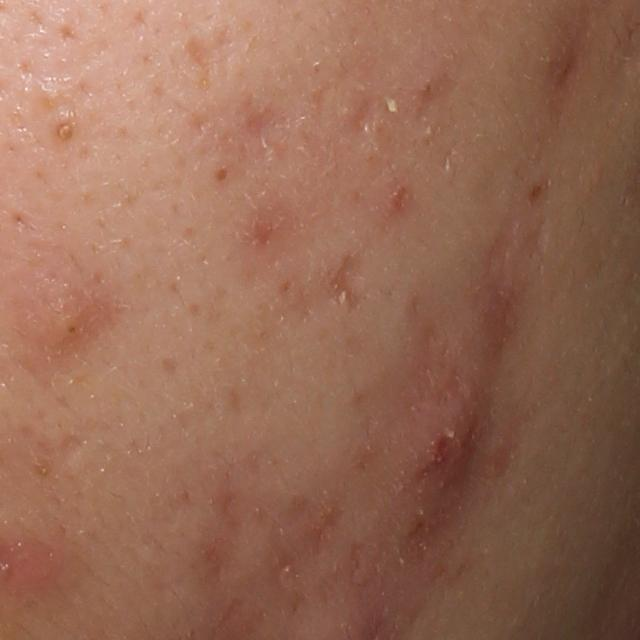atrophic_scar: (278, 491, 347, 601), (202, 479, 254, 576), (240, 94, 287, 147), (327, 256, 364, 312), (346, 88, 381, 141), (52, 432, 88, 467), (183, 35, 212, 70)
comedo: (50, 113, 80, 148), (207, 158, 235, 188)
nodule: (389, 261, 519, 553)
papule: (7, 546, 65, 592), (43, 294, 95, 344)
